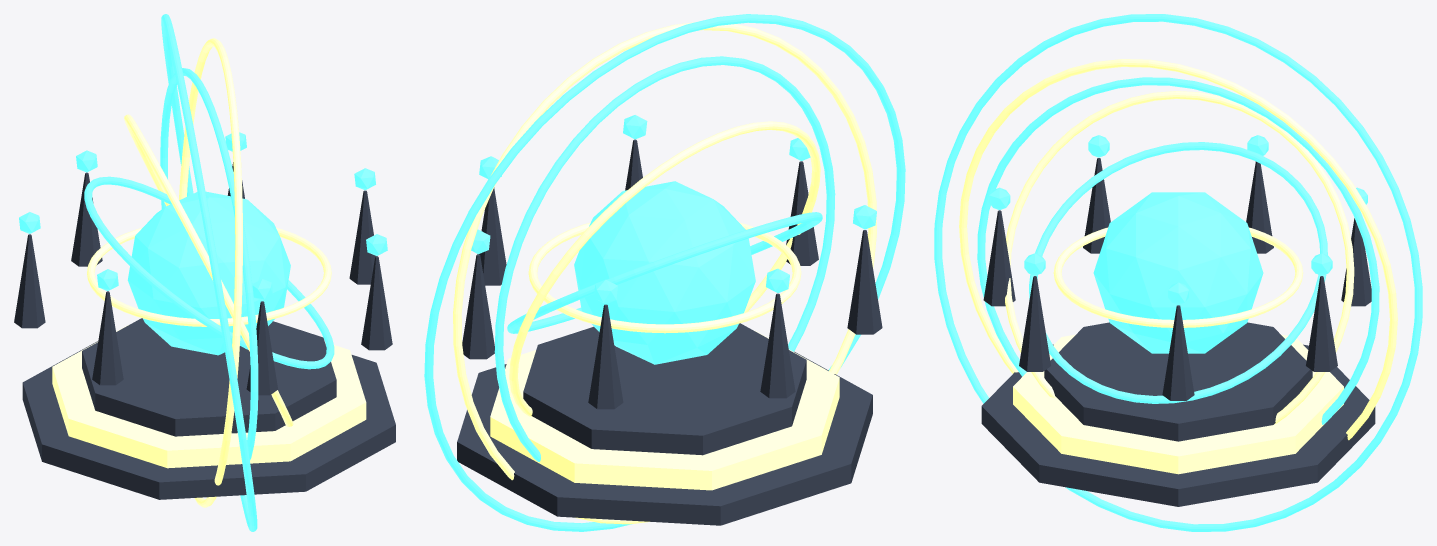
Rendered from gpu-blender-v44.glb.
3 renders of one model, left to right at view 1: azimuth 30°, elevation 25°; view 2: azimuth 150°, elevation 25°; view 3: azimuth 270°, elevation 25°, orthographic. The views are drawn at different scales.
Parts seen in each view (by area): view 1: Cylinder.002, Cylinder, SovereignCore_zoth-bot, Cylinder.001, Torus.005, Torus.004, Torus.003, Torus.001, Torus, Torus.002, Cone.003, Cone.006 (+4 smaller); view 2: Cylinder.002, SovereignCore_zoth-bot, Cylinder, Cylinder.001, Torus.005, Torus.003, Torus.004, Torus.002, Torus.001, Torus, Cone.002, Cone.003 (+4 smaller); view 3: SovereignCore_zoth-bot, Cylinder.002, Cylinder, Cylinder.001, Torus.005, Torus.004, Torus.003, Torus.002, Torus.001, Torus, Cone, Cone.001 (+5 smaller).
Boxes of the visible parts, x1,y1,x2,y2 form: Cylinder.002: (82,318,336,436); Cylinder: (22,341,395,499); SovereignCore_zoth-bot: (127,191,290,355); Cylinder.001: (52,325,366,468); Torus.005: (161,14,257,531); Torus.004: (179,38,242,507); Torus.003: (160,68,258,459); Torus.001: (84,176,334,369); Torus: (87,227,331,326); Torus.002: (124,114,293,426); Cone.003: (14,234,45,328); Cone.006: (361,256,392,350); Cylinder.002: (523,323,806,455); SovereignCore_zoth-bot: (574,181,755,364); Cylinder: (457,351,872,525); Cylinder.001: (490,330,839,490); Torus.005: (424,14,905,531); Torus.003: (494,56,835,461); Torus.004: (453,22,876,524); Torus.002: (509,121,820,416); Torus.001: (507,212,822,333); Torus: (528,222,801,333); Cone.002: (588,304,623,409); Cone.003: (760,293,795,398); SovereignCore_zoth-bot: (1093,192,1263,353); Cylinder.002: (1044,322,1312,441); Cylinder: (981,344,1375,506); Cylinder.001: (1013,334,1343,474); Torus.005: (934,14,1422,531); Torus.004: (959,59,1397,440); Torus.003: (977,77,1379,424); Torus.002: (1005,91,1354,423); Torus.001: (1029,142,1327,403); Torus: (1053,227,1303,327); Cone: (1162,305,1194,400); Cone.001: (1306,276,1337,371).
Size of the model in its own units: 4.41 by 5.93 by 5.46.
